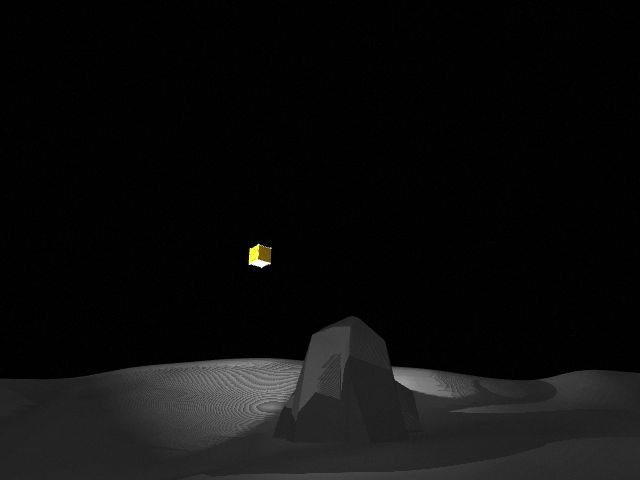cubesat: (246, 242, 274, 272)
